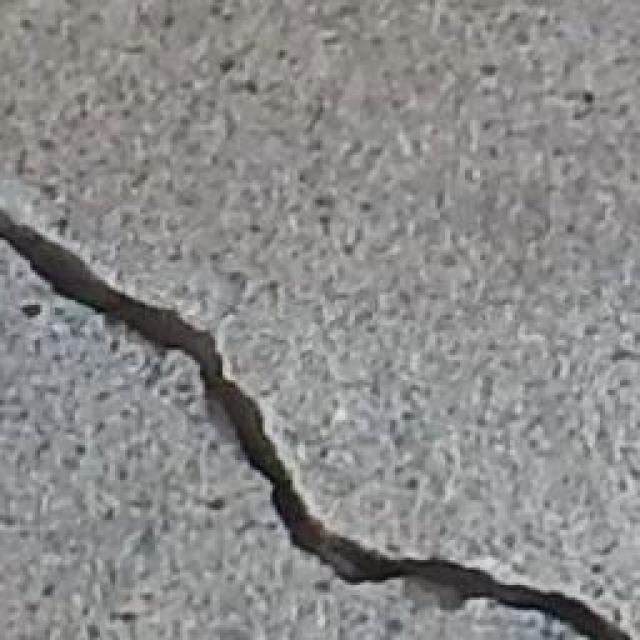concrete-crack: (0, 200, 640, 640)
